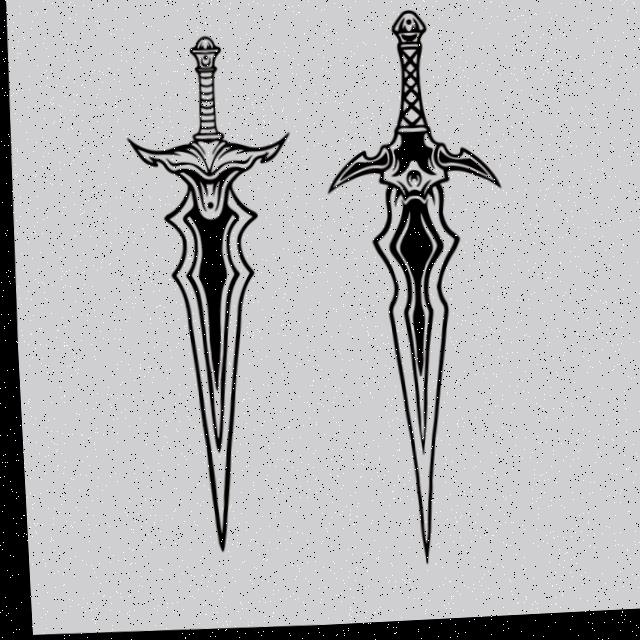knife: (310, 5, 520, 578), (111, 26, 310, 566)
